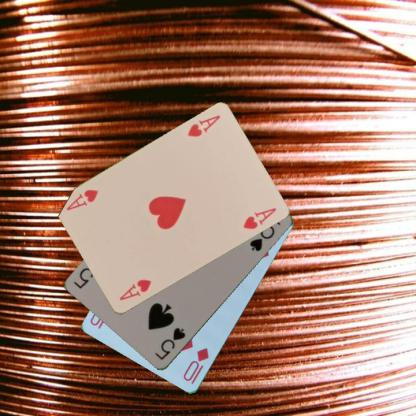10d: (180, 345, 210, 386)
5s: (152, 324, 186, 362)
Ah: (116, 276, 153, 302), (185, 112, 222, 138)
